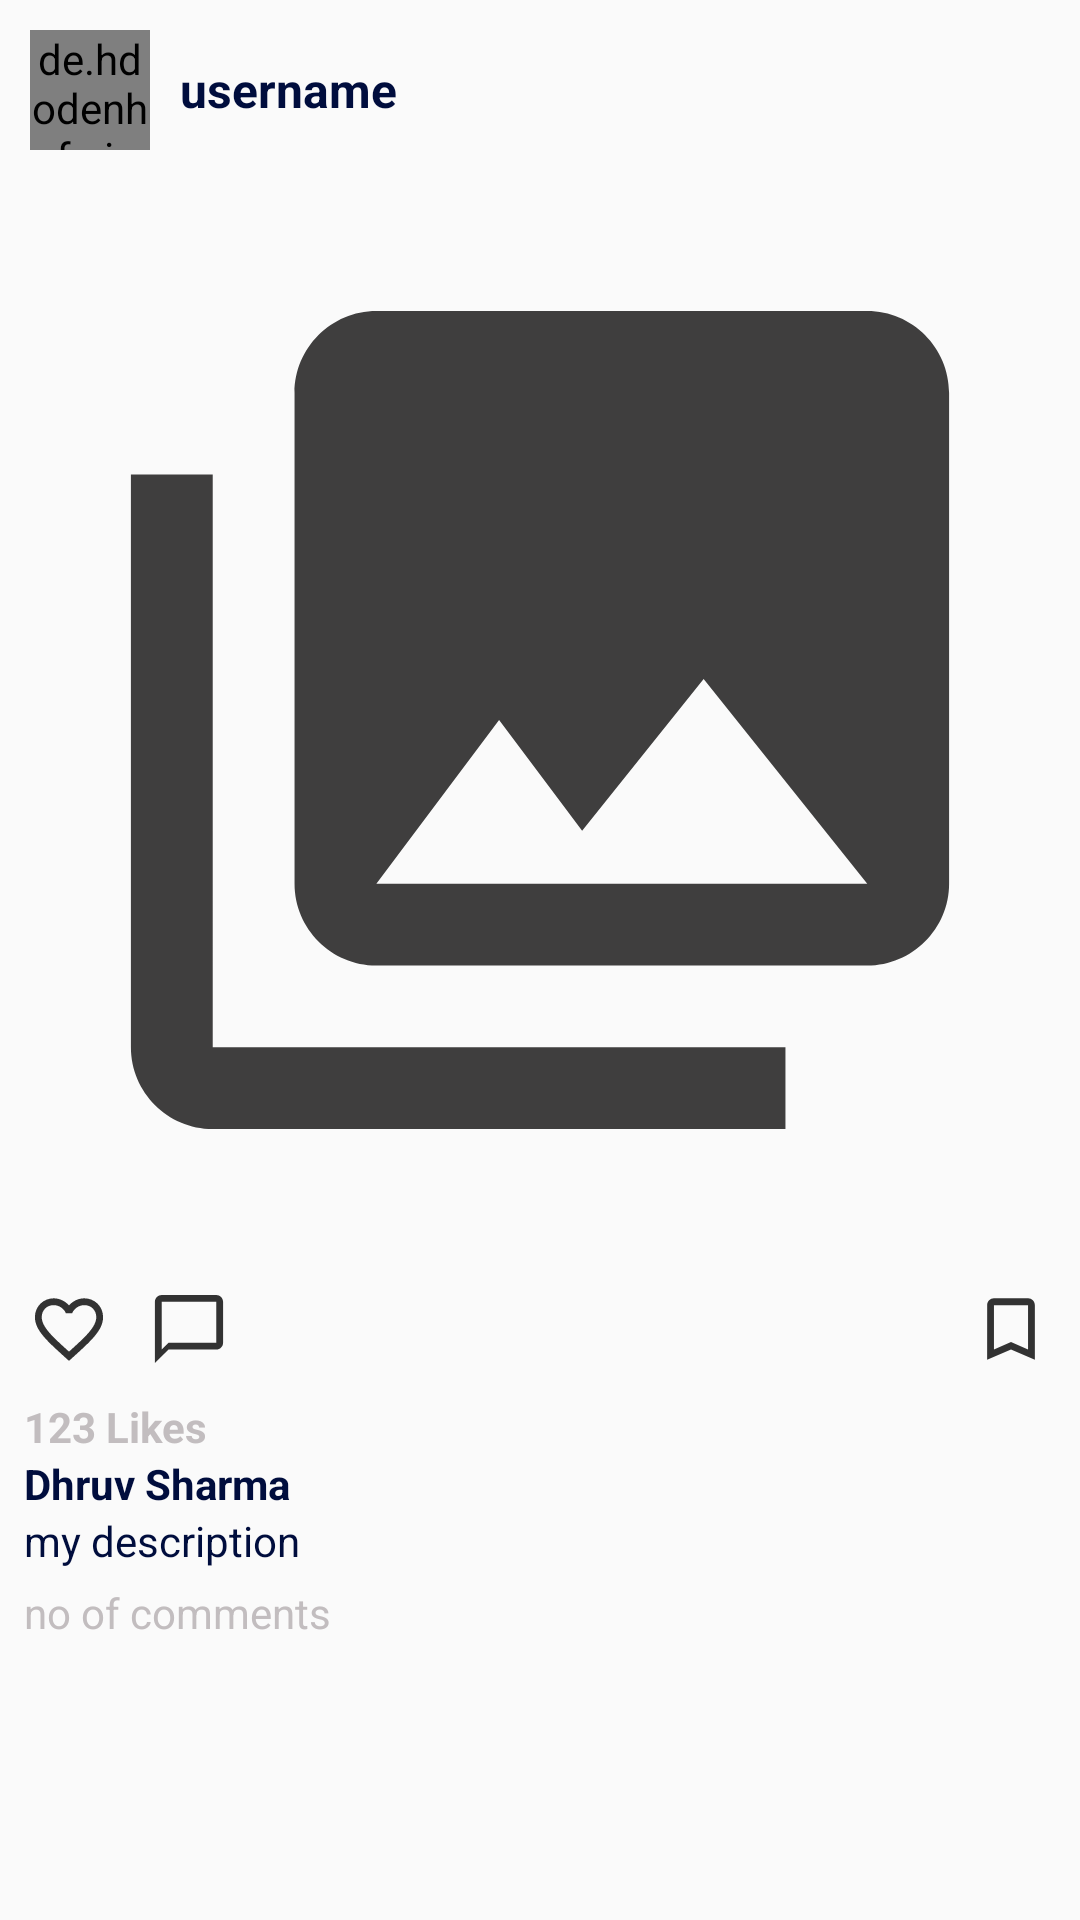

Icons on this 1080 x 1920 Android screen, each with the point to tap as [x,y]:
comment: [189,1329]
saved: [1011,1329]
